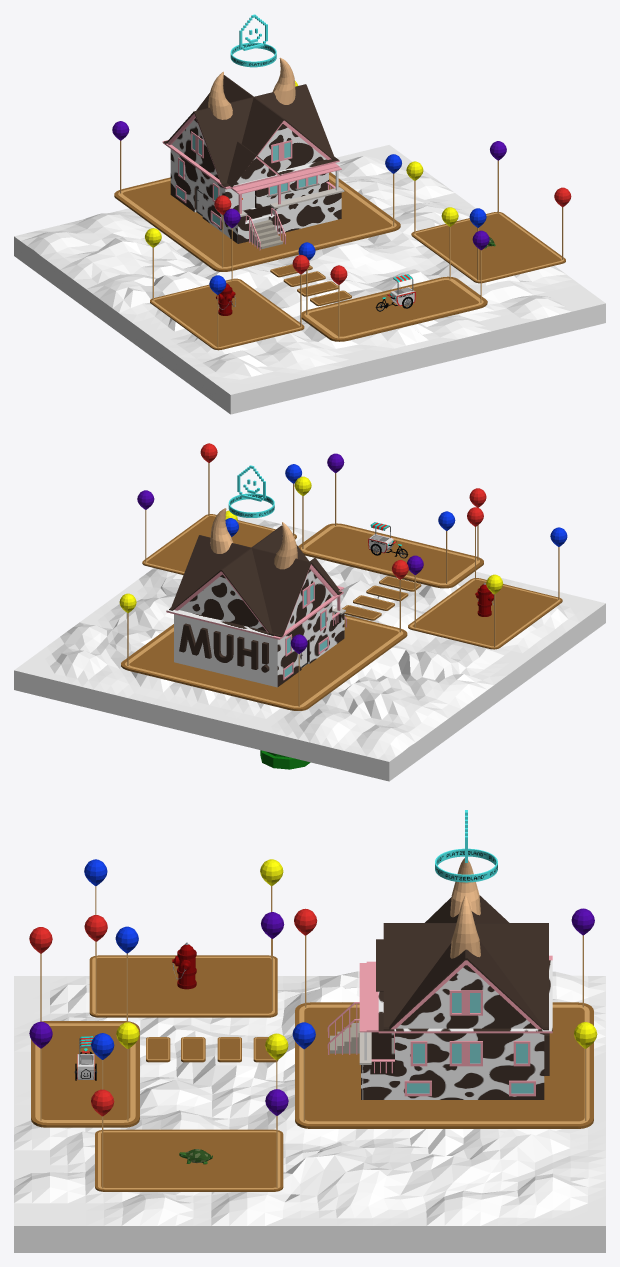
The picture shows the model from 3 angles, top to bottom: view 1: azimuth 30°, elevation 25°; view 2: azimuth 150°, elevation 25°; view 3: azimuth 270°, elevation 25°; orthographic projection. The views are drawn at different scales.
Visible parts, largest first — view 1: Cube.013, Cube.1242, TYPE_PREMIUM, VEHICLES_SNOWBAL_BIKE; view 2: Cube.013, Cube.1242, TYPE_PREMIUM, VEHICLES_SNOWBAL_BIKE, UNDERGROUND_PIPES, OBJRANDOM_FIRE_HYDRANT; view 3: Cube.013, Cube.1242, TYPE_PREMIUM, OBJRANDOM_FIRE_HYDRANT, VEHICLES_SNOWBAL_BIKE.
Boxes of the visible parts, bbox=[...] form: Cube.013: bbox=[14, 81, 605, 414]; Cube.1242: bbox=[162, 57, 344, 250]; TYPE_PREMIUM: bbox=[230, 14, 276, 67]; VEHICLES_SNOWBAL_BIKE: bbox=[375, 274, 415, 311]; Cube.013: bbox=[14, 443, 605, 781]; Cube.1242: bbox=[166, 508, 346, 687]; TYPE_PREMIUM: bbox=[228, 465, 274, 517]; VEHICLES_SNOWBAL_BIKE: bbox=[368, 522, 408, 558]; UNDERGROUND_PIPES: bbox=[260, 750, 310, 769]; OBJRANDOM_FIRE_HYDRANT: bbox=[475, 583, 493, 616]; Cube.013: bbox=[14, 859, 605, 1252]; Cube.1242: bbox=[327, 858, 552, 1099]; TYPE_PREMIUM: bbox=[435, 810, 497, 882]; OBJRANDOM_FIRE_HYDRANT: bbox=[172, 942, 196, 989]; VEHICLES_SNOWBAL_BIKE: bbox=[74, 1036, 97, 1080].
Size of the model in its own units: 4000 by 3027 by 4000.
40 materials, 2 textured.
